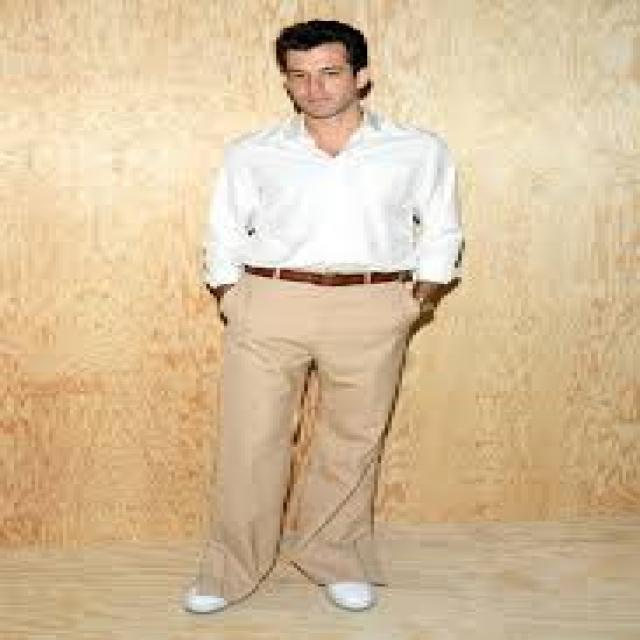adult: (151, 12, 479, 619)
